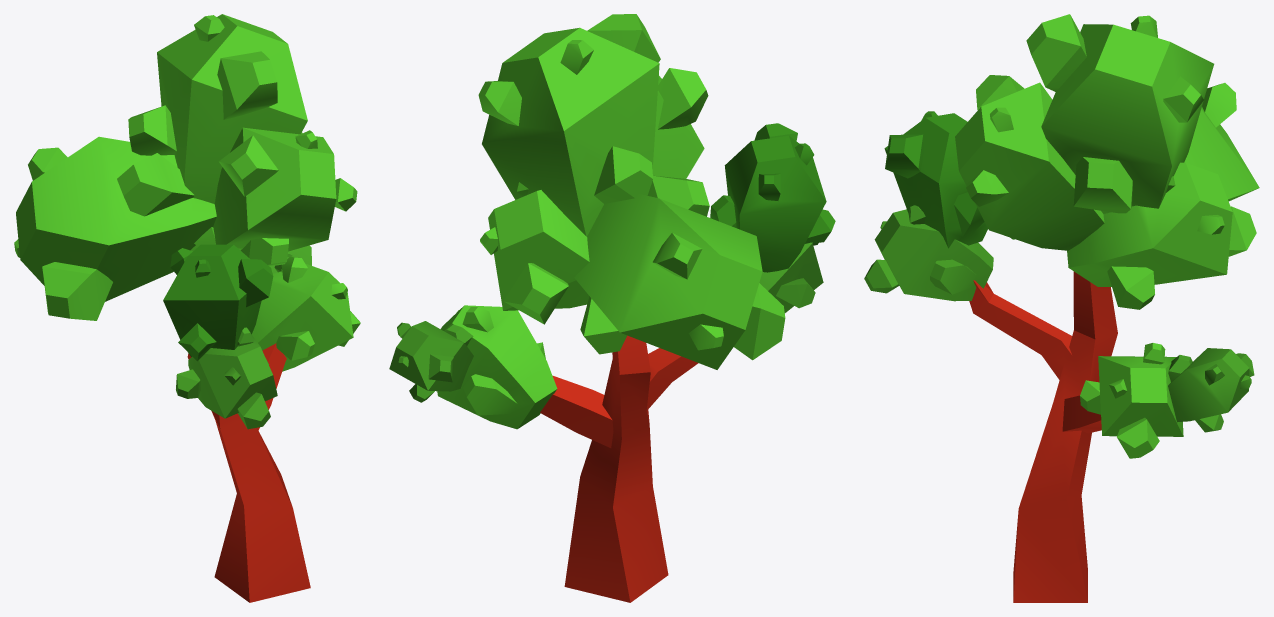
Rendered from tree.obj.
3 views of the same model, side by side, from view 1: azimuth 30°, elevation 25°; view 2: azimuth 150°, elevation 25°; view 3: azimuth 270°, elevation 25° (orthographic). The views are drawn at different scales.
Parts seen in each view (by area): view 1: BranchesCBranchesuBranchesbBrancheseBranches.Branches0Branc.005_, BranchesCBranchesuBranchesbBrancheseBranches.Branches0Branc.004_, BranchesCBranchesuBranchesbBrancheseBranches.Branches0Branc.003_, Trunk_Plane.001_trunk_color, BranchesCBranchesuBranchesbBrancheseBranches.Branches0Branches0_, BranchesCBranchesuBranchesbBrancheseBranches.Branches0BrancBran_, BranchesCBranchesuBranchesbBrancheseBranchesBranch_Cube.002_bran; view 2: BranchesCBranchesuBranchesbBrancheseBranches.Branches0Branc.004_, BranchesCBranchesuBranchesbBrancheseBranches.Branches0Branc.005_, Trunk_Plane.001_trunk_color, BranchesCBranchesuBranchesbBrancheseBranches.Branches0Branches0_, BranchesCBranchesuBranchesbBrancheseBranches.Branches0Branc.002_, BranchesCBranchesuBranchesbBrancheseBranches.Branches0BrancBran_, BranchesCBranchesuBranchesbBrancheseBranches.Branches0Branc.001_, BranchesCBranchesuBranchesbBrancheseBranches.Branches0Branc.003_, BranchesCBranchesuBranchesbBrancheseBranchesBranch_Cube.002_bran; view 3: BranchesCBranchesuBranchesbBrancheseBranches.Branches0Branc.004_, Trunk_Plane.001_trunk_color, BranchesCBranchesuBranchesbBrancheseBranches.Branches0Branc.003_, BranchesCBranchesuBranchesbBrancheseBranches.Branches0Branc.002_, BranchesCBranchesuBranchesbBrancheseBranches.Branches0Branches0_, BranchesCBranchesuBranchesbBrancheseBranchesBranch_Cube.002_bran, BranchesCBranchesuBranchesbBrancheseBranches.Branches0BrancBran_, BranchesCBranchesuBranchesbBrancheseBranches.Branches0Branc.001_, BranchesCBranchesuBranchesbBrancheseBranches.Branches0Branc.005_.
Boxes of the visible parts, x1,y1,x2,y2 form: BranchesCBranchesuBranchesbBrancheseBranches.Branches0Branc.005_: (14, 136, 216, 320); BranchesCBranchesuBranchesbBrancheseBranches.Branches0Branc.004_: (128, 14, 307, 203); BranchesCBranchesuBranchesbBrancheseBranches.Branches0Branc.003_: (213, 127, 357, 266); Trunk_Plane.001_trunk_color: (187, 343, 310, 602); BranchesCBranchesuBranchesbBrancheseBranches.Branches0Branches0_: (163, 244, 273, 361); BranchesCBranchesuBranchesbBrancheseBranches.Branches0BrancBran_: (251, 256, 360, 371); BranchesCBranchesuBranchesbBrancheseBranchesBranch_Cube.002_bran: (176, 327, 277, 429); BranchesCBranchesuBranchesbBrancheseBranches.Branches0Branc.004_: (478, 14, 660, 236); BranchesCBranchesuBranchesbBrancheseBranches.Branches0Branc.005_: (574, 175, 785, 369); Trunk_Plane.001_trunk_color: (540, 335, 698, 602); BranchesCBranchesuBranchesbBrancheseBranches.Branches0Branches0_: (710, 123, 835, 272); BranchesCBranchesuBranchesbBrancheseBranches.Branches0Branc.002_: (480, 182, 589, 324); BranchesCBranchesuBranchesbBrancheseBranches.Branches0BrancBran_: (437, 305, 557, 429); BranchesCBranchesuBranchesbBrancheseBranches.Branches0Branc.001_: (389, 321, 473, 402); BranchesCBranchesuBranchesbBrancheseBranches.Branches0Branc.003_: (652, 68, 708, 178); BranchesCBranchesuBranchesbBrancheseBranchesBranch_Cube.002_bran: (759, 242, 823, 313); BranchesCBranchesuBranchesbBrancheseBranches.Branches0Branc.004_: (1026, 14, 1214, 213); Trunk_Plane.001_trunk_color: (969, 271, 1117, 602); BranchesCBranchesuBranchesbBrancheseBranches.Branches0Branc.003_: (955, 75, 1104, 250); BranchesCBranchesuBranchesbBrancheseBranches.Branches0Branc.002_: (1067, 162, 1256, 309); BranchesCBranchesuBranchesbBrancheseBranches.Branches0Branches0_: (884, 111, 987, 248); BranchesCBranchesuBranchesbBrancheseBranchesBranch_Cube.002_bran: (864, 205, 993, 301); BranchesCBranchesuBranchesbBrancheseBranches.Branches0BrancBran_: (1080, 343, 1183, 458); BranchesCBranchesuBranchesbBrancheseBranches.Branches0Branc.001_: (1168, 348, 1254, 432); BranchesCBranchesuBranchesbBrancheseBranches.Branches0Branc.005_: (1184, 83, 1259, 201).
Size of the model in its own units: 10.59 by 16.73 by 10.6.
